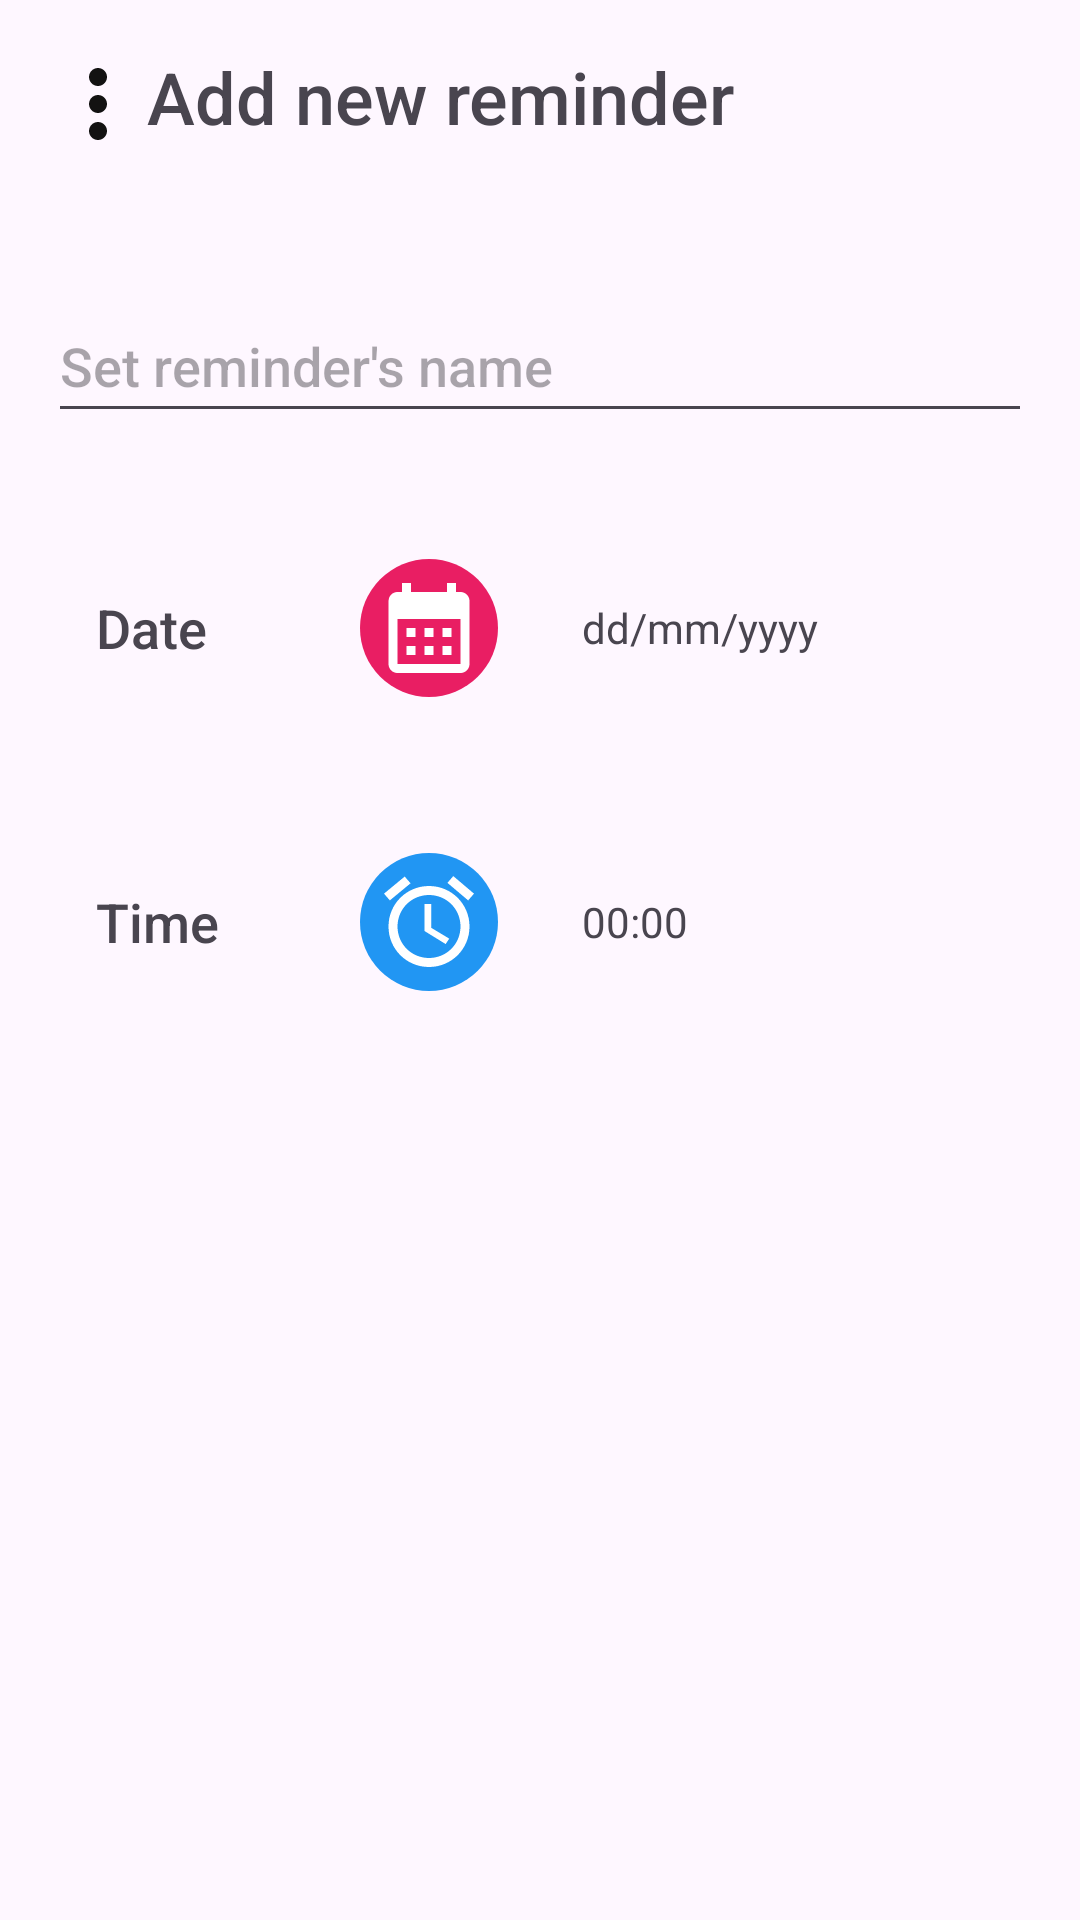

Where icons sit on this 1080×1920 app screen, as [left=x1, top=y1, right=x2, bottom=y2]:
access alarms: [left=360, top=853, right=498, bottom=991]
calendar: [left=360, top=559, right=498, bottom=697]
more vert: [left=89, top=68, right=107, bottom=140]
